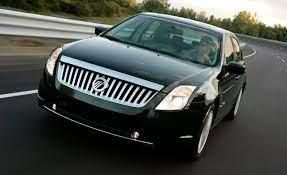Mercury: (90, 74, 116, 98)
